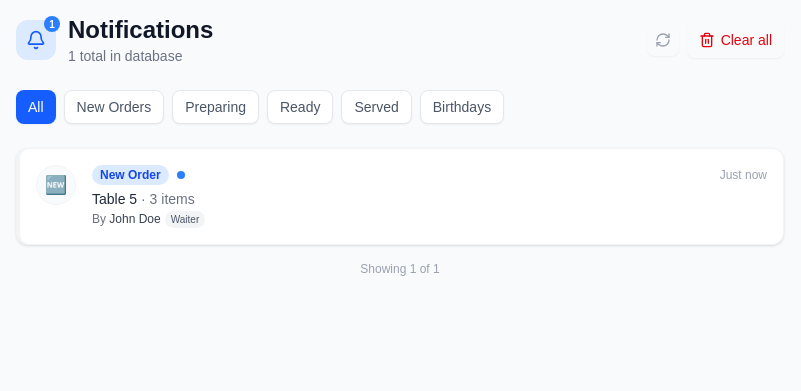
Test: NotificationsPage › re-fetches when the refresh button is clicked
Expected: the text "New Order" is shown, 92,165 -> 169,185
Click the button titled "Refresh" at (663,40), box 647,24 -> 679,56
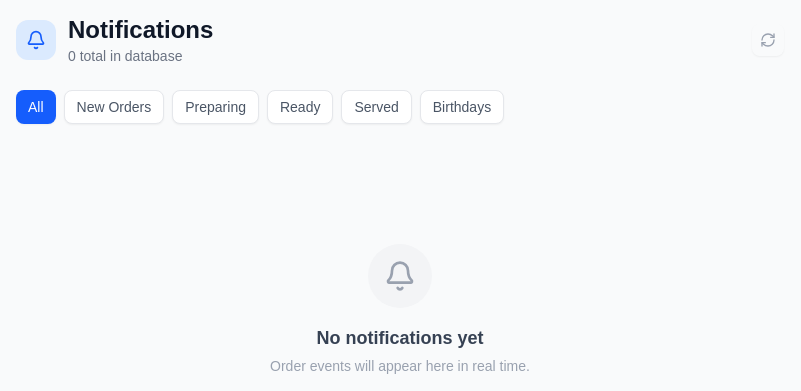
Result: the heading "No notifications yet" is shown at 316,324 -> 484,352
